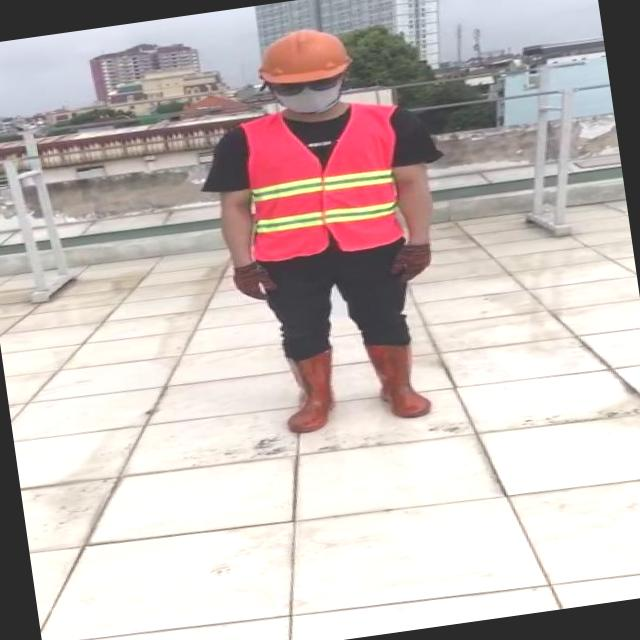boots: (276, 348, 344, 436), (365, 339, 434, 424)
helmet: (248, 22, 356, 92)
vest: (234, 98, 411, 264)
